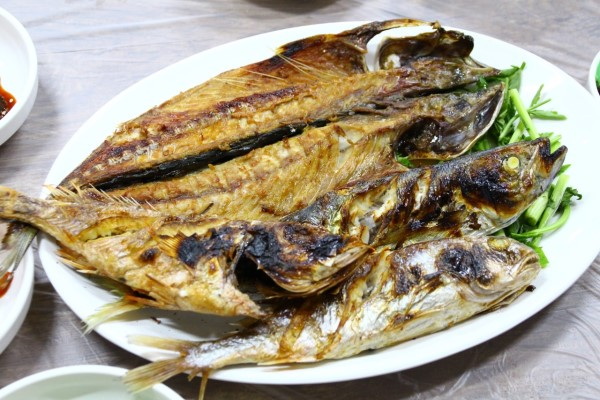godeung-eogu-i: (0, 131, 586, 314), (129, 231, 549, 400)
